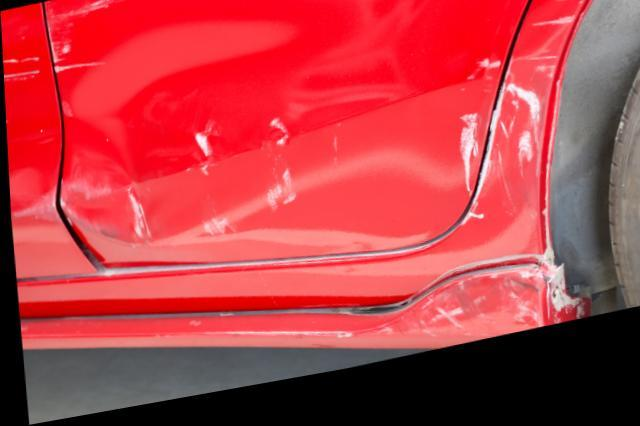dislocated part: (50, 94, 105, 276)
scratch: (479, 0, 600, 209), (121, 130, 301, 254), (387, 287, 547, 357), (47, 0, 158, 78), (452, 71, 499, 216), (2, 54, 41, 129), (199, 336, 350, 353)
